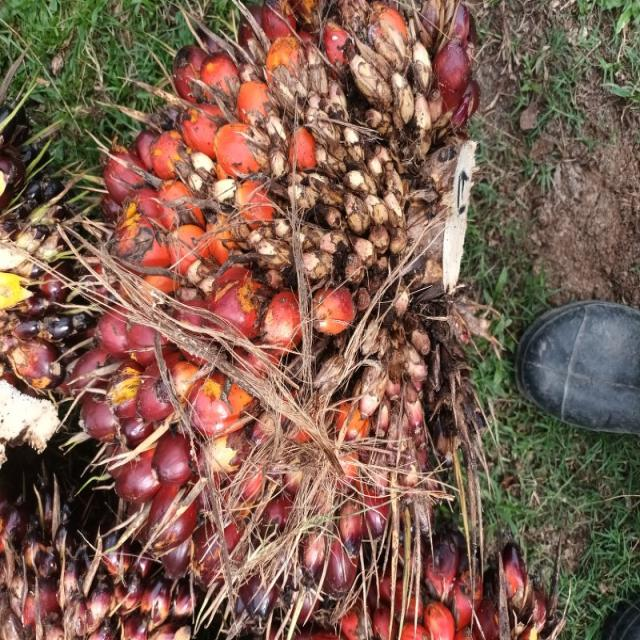fraksi 1: (6, 79, 480, 640)
